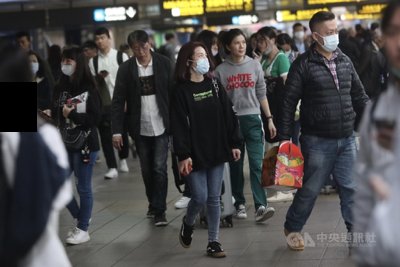mask_weared_incorrect: (255, 36, 273, 54), (210, 41, 219, 56)
with_mask: (318, 26, 341, 53), (191, 51, 212, 76), (61, 58, 77, 77), (26, 58, 40, 74), (295, 28, 306, 40), (283, 47, 293, 58)
without_mask: (133, 44, 151, 61), (231, 39, 248, 57), (94, 35, 110, 50), (18, 38, 30, 52), (84, 48, 95, 59)
